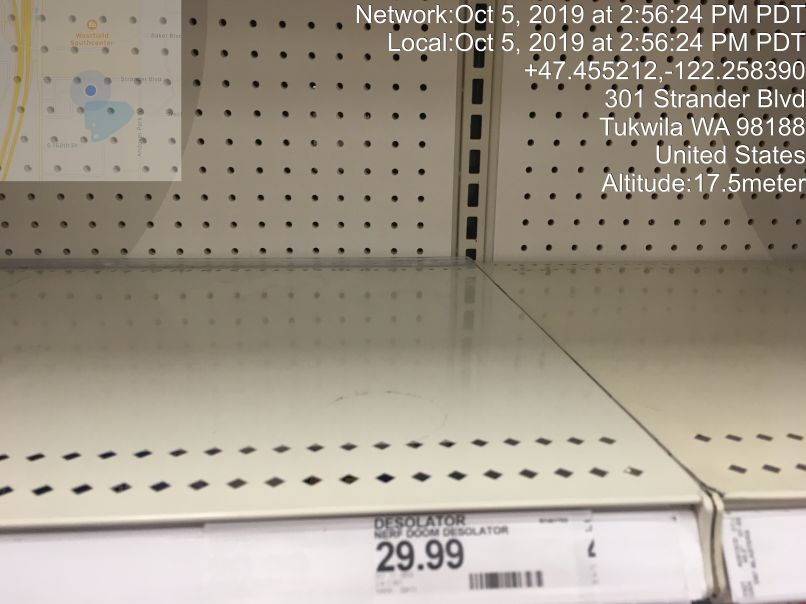Label: (364, 509, 601, 600)
Location: (596, 84, 806, 171)
Time: (352, 1, 806, 51)
Void: (26, 49, 570, 438)
